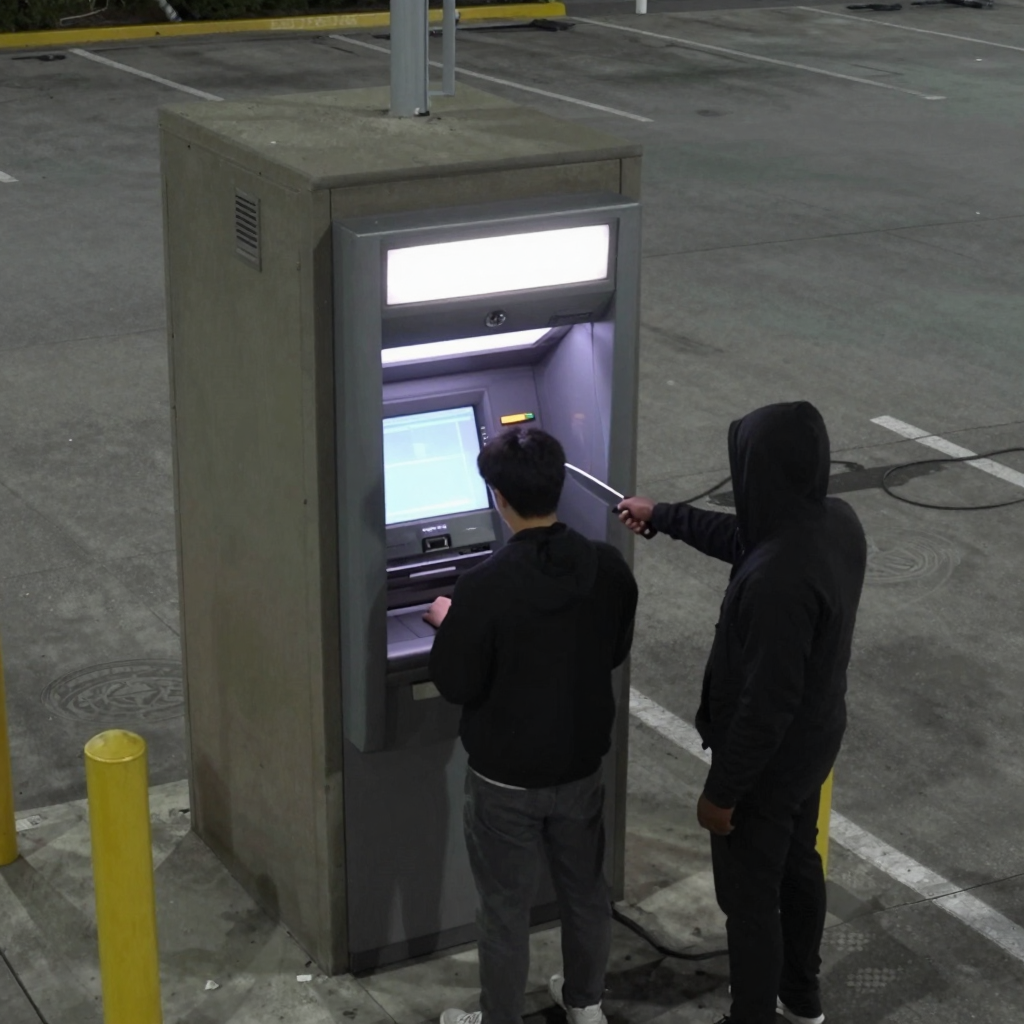Assault: (563, 462, 656, 539)
Robbery: (613, 399, 868, 1024), (422, 426, 639, 1024)
